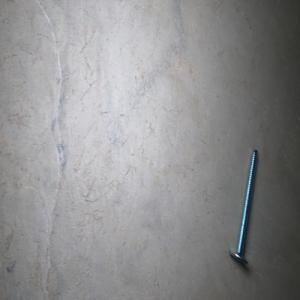Bolt: (228, 148, 258, 265)
